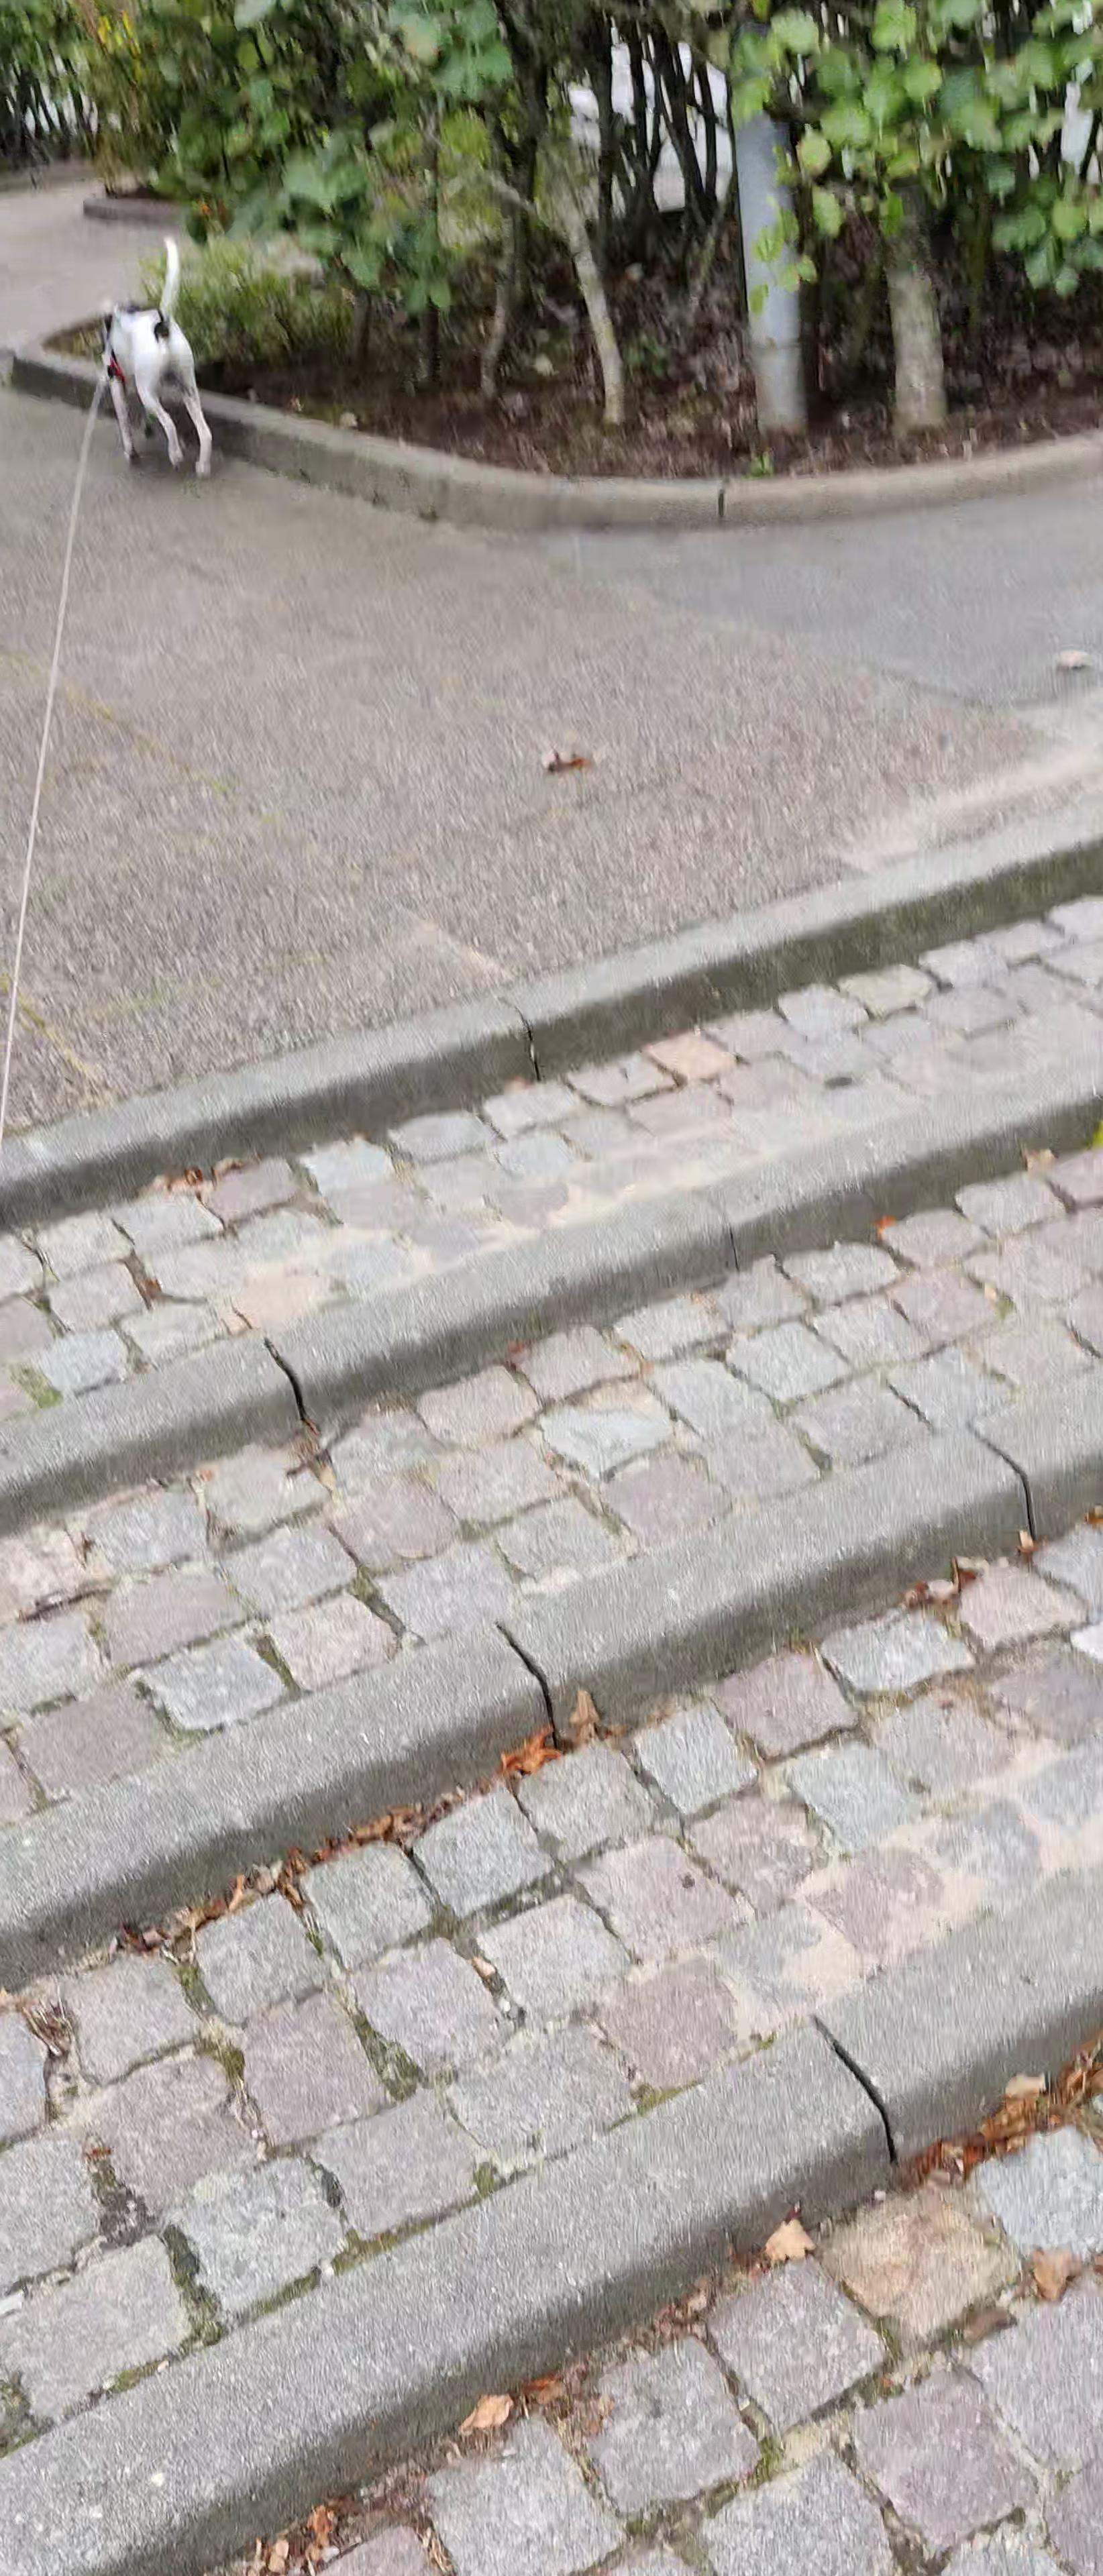Dog: (76, 220, 224, 488)
